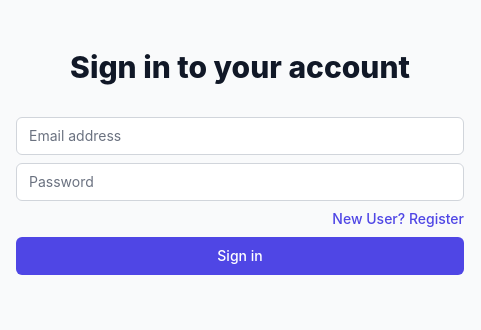
Test: Login Component › handles login failure
Type "wrong@example.com" into the field with placeholder "Email address" at [240, 136], box [16,117,464,155]
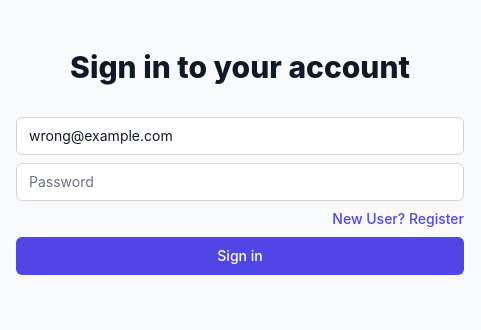
Type "wrongpass" into the password field with placeholder "Password" at [240, 182], box [16,163,464,201]
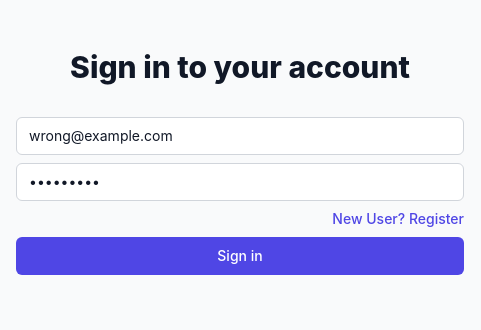
Click the button "Sign in" at [240, 256], box [16,237,464,275]
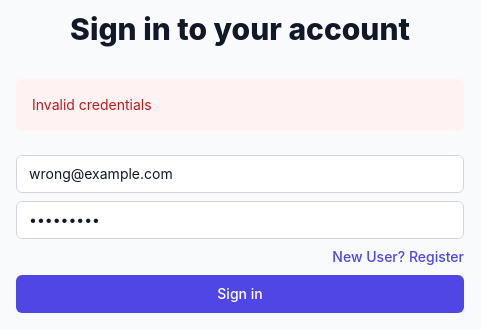
Expected: the text "Invalid credentials" is shown, [32,96,152,113]
